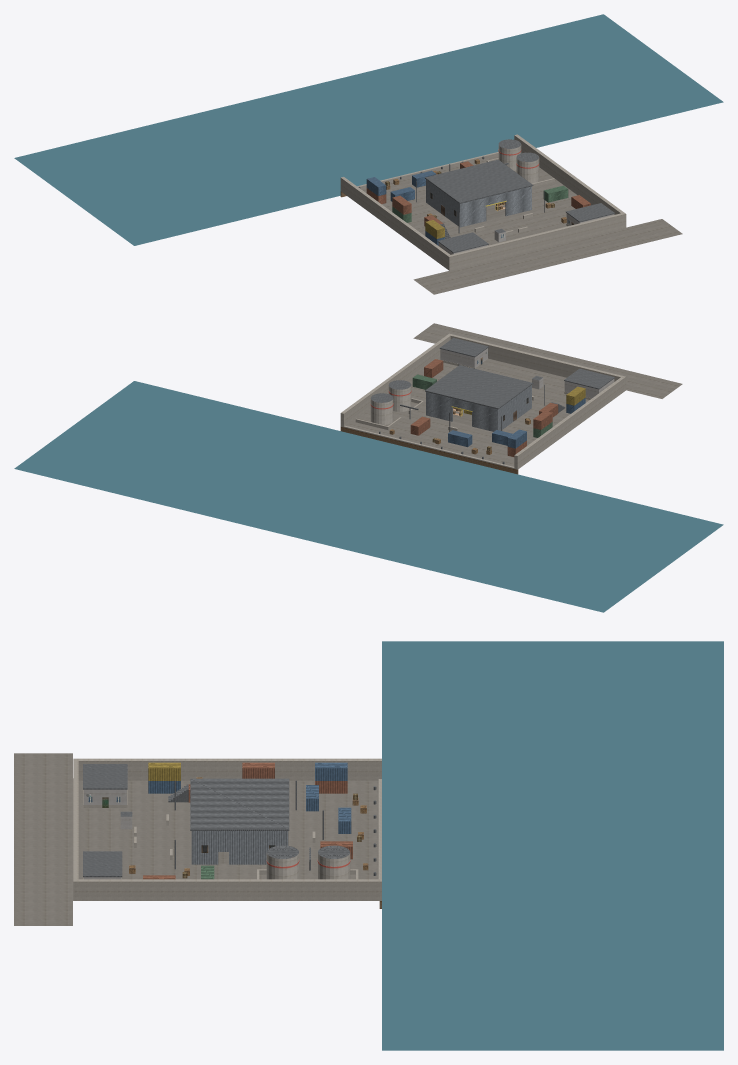
Rendered from map_port.glb.
3 views of the same model, one above another, from view 1: azimuth 30°, elevation 25°; view 2: azimuth 150°, elevation 25°; view 3: azimuth 270°, elevation 25° (orthographic). The views are drawn at different scales.
Parts seen in each view (by area): view 1: water, ground, wallC, metalDark, metal, rustBlue, tank, rust, rustGreen; view 2: water, ground, wallC, metalDark, metal, rust, plaster, rustBlue, tank, stone; view 3: water, ground, wallC, metalDark, metal, rustBlue, tank, rust, plaster, decals.
Boxes of the visible parts, x1,y1,x2,y2 form: water: (14,14,723,245); ground: (360,154,682,294); wallC: (340,134,626,270); metalDark: (358,139,614,253); metal: (426,179,531,227); rustBlue: (366,170,444,245); tank: (498,144,539,183); rust: (366,161,590,226); rustGreen: (392,185,568,222); water: (14,381,723,612); ground: (346,323,682,466); wallC: (340,333,626,469); metalDark: (371,338,614,464); metal: (426,385,531,431); rust: (410,359,558,456); plaster: (440,348,614,398); rustBlue: (448,398,585,448); tank: (370,385,411,424); stone: (340,427,518,474); water: (382,641,723,1050); ground: (14,753,378,925); wallC: (73,758,381,900); metalDark: (83,764,376,877); metal: (191,831,288,864); rustBlue: (148,762,351,833); tank: (266,852,350,879); rust: (143,762,352,879); plaster: (84,789,132,879); decals: (86,777,368,878).
Size of the model in its own units: 180 by 8.9 by 132.
17 materials, 14 textured.
